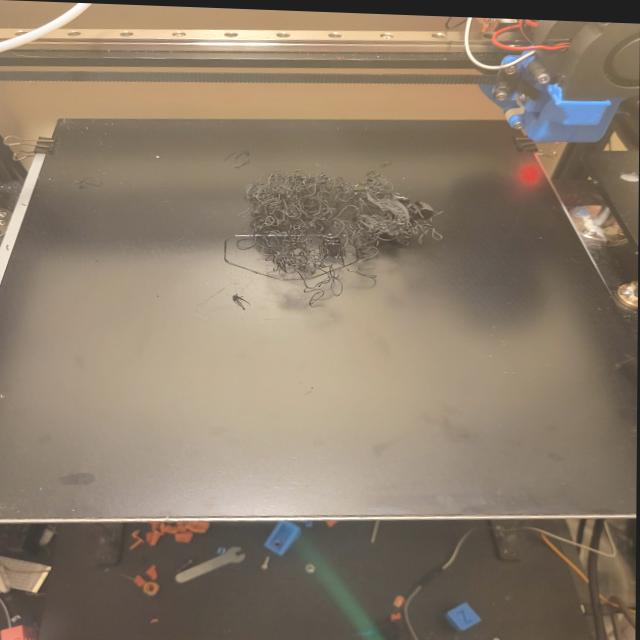spaghetti: (224, 172, 444, 307), (212, 142, 265, 178), (215, 288, 261, 315), (67, 172, 117, 192)
